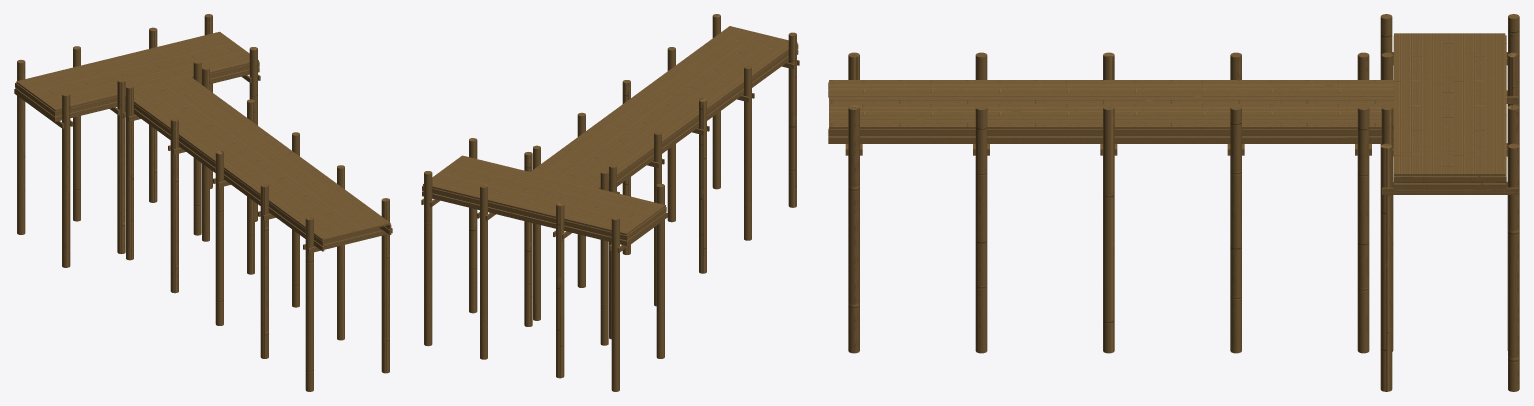
File: CTS_E_WoodenDock.fbx
The picture shows the model from 3 angles, left to right: view 1: azimuth 30°, elevation 25°; view 2: azimuth 150°, elevation 25°; view 3: azimuth 270°, elevation 25°; orthographic projection. The views are drawn at different scales.
Parts seen in each view (by area): view 1: Dock; view 2: Dock; view 3: Dock.
Boxes of the visible parts, box(x1,y1,x2,y2) form: Dock: box(14, 14, 392, 391); Dock: box(421, 14, 799, 391); Dock: box(828, 14, 1519, 391).
Bounding box in the file's own units: 883 × 708 × 1823.
